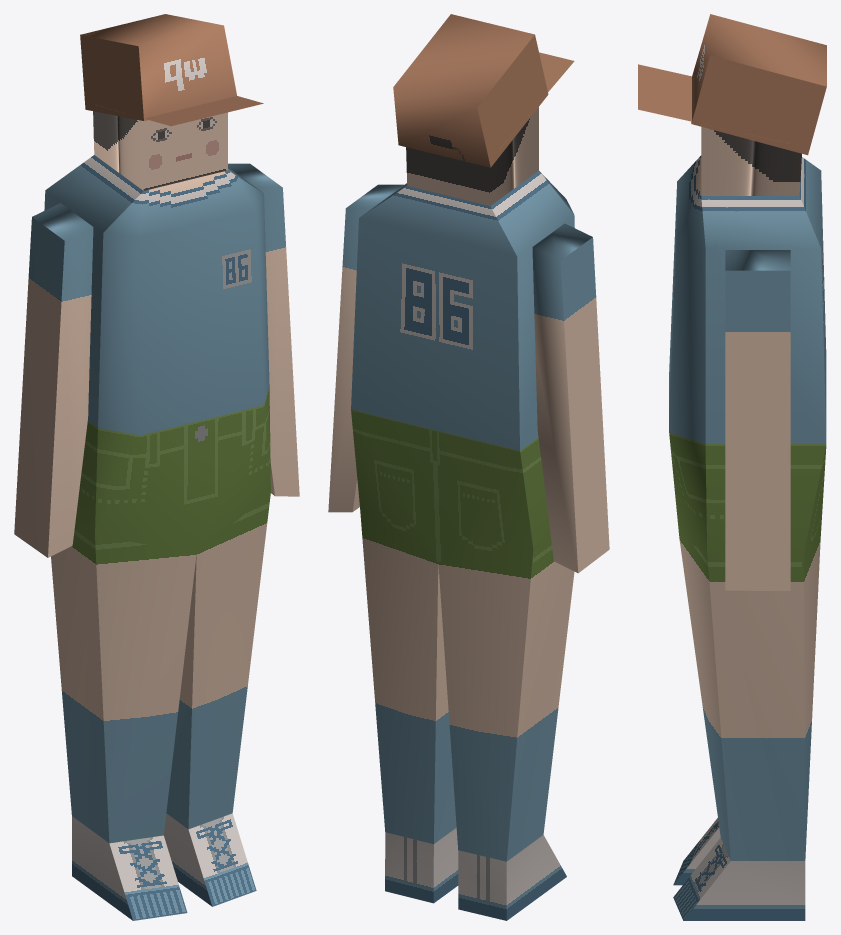
The model's file is 0223_Junior.glb.
3 views of the same model, side by side, from view 1: azimuth 30°, elevation 25°; view 2: azimuth 150°, elevation 25°; view 3: azimuth 270°, elevation 25° (orthographic).
Parts seen in each view (by area): view 1: part_0; view 2: part_0; view 3: part_0.
Boxes of the visible parts, box(x1,y1,x2,y2) form: part_0: box(14, 14, 299, 920); part_0: box(328, 14, 609, 920); part_0: box(638, 14, 826, 920).
Size of the model in its own units: 0.3869 by 1.25 by 0.2506.
1 material, 1 textured.
